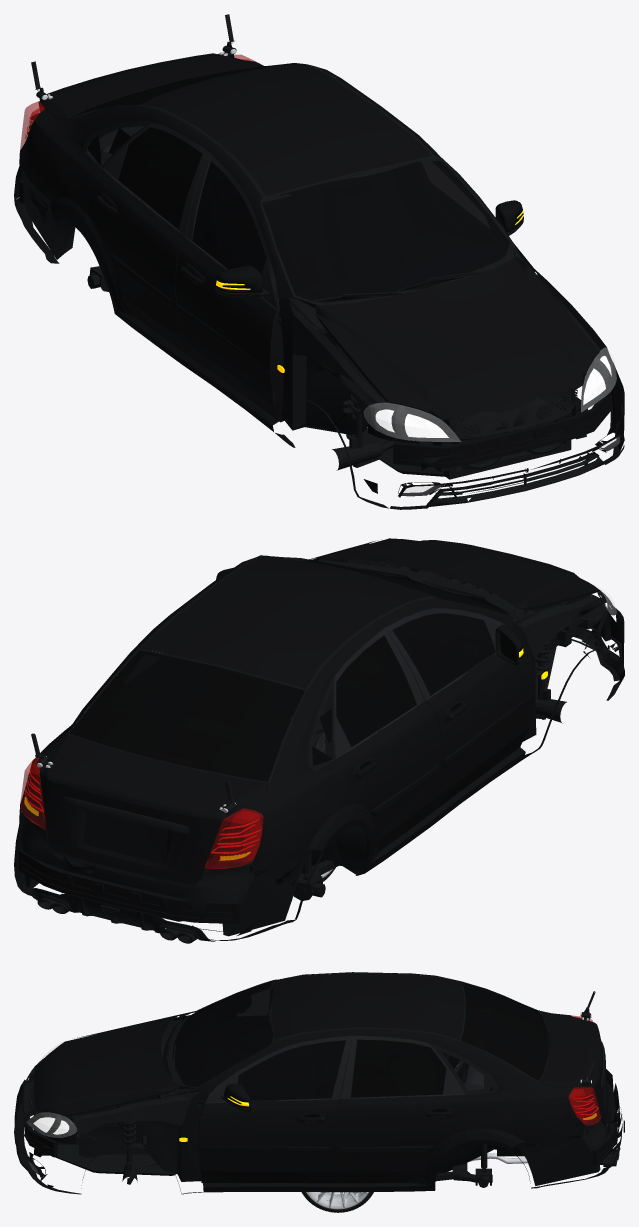
The model's file is gentra.glb.
The picture shows the model from 3 angles, top to bottom: view 1: azimuth 30°, elevation 25°; view 2: azimuth 150°, elevation 25°; view 3: azimuth 270°, elevation 25°; orthographic projection. The views are drawn at different scales.
Visible parts, largest first — view 1: chassis, kapot, chassis003, door_rf_ok, door_rr_ok, bumper_r, boot, st002, bumper_f, amartizator, chassis001, Faralar_on (+1 smaller); view 2: chassis, boot, chassis001, door_rf_ok, door_rr_ok, kapot, bumper_r, st, amartizator, chassis003, rear_light, Fara; view 3: chassis, door_lf_ok, door_lr_ok, kapot, chassis003, chassis001, boot, bumper_r, amartizator, st002, st, wheel_fr (+3 smaller).
Boxes of the visible parts, box(x1,y1,x2,y2) form: chassis: box(19, 60, 616, 479); kapot: box(316, 257, 598, 418); chassis003: box(262, 158, 509, 303); door_rf_ok: box(176, 152, 279, 421); door_rr_ok: box(86, 122, 208, 353); bumper_r: box(14, 150, 624, 509); boot: box(31, 14, 260, 118); st002: box(364, 347, 619, 495); bumper_f: box(426, 453, 605, 507); amartizator: box(87, 266, 403, 470); chassis001: box(72, 63, 302, 165); Faralar_on: box(404, 368, 605, 437); chassis: box(19, 555, 616, 936); boot: box(31, 733, 267, 883); chassis001: box(69, 650, 332, 781); door_rf_ok: box(385, 608, 535, 814); door_rr_ok: box(334, 628, 442, 853); kapot: box(316, 538, 598, 614); bumper_r: box(14, 540, 624, 943); st: box(20, 758, 263, 868); amartizator: box(293, 640, 566, 900); chassis003: box(269, 556, 509, 615); rear_light: box(25, 770, 261, 853); Fara: box(28, 760, 261, 862); chassis: box(22, 972, 615, 1192); door_lf_ok: box(198, 1035, 351, 1183); door_lr_ok: box(334, 1035, 466, 1183); kapot: box(34, 1015, 178, 1116); chassis003: box(172, 981, 273, 1086); chassis001: box(461, 982, 549, 1080); boot: box(540, 991, 608, 1124); bumper_r: box(14, 1011, 624, 1194); amartizator: box(122, 1121, 492, 1187); st002: box(26, 1042, 76, 1174); st: box(568, 1015, 601, 1124); wheel_fr: box(302, 1192, 368, 1209).
Size of the model in its own units: 1.99 by 1.8 by 4.74.
